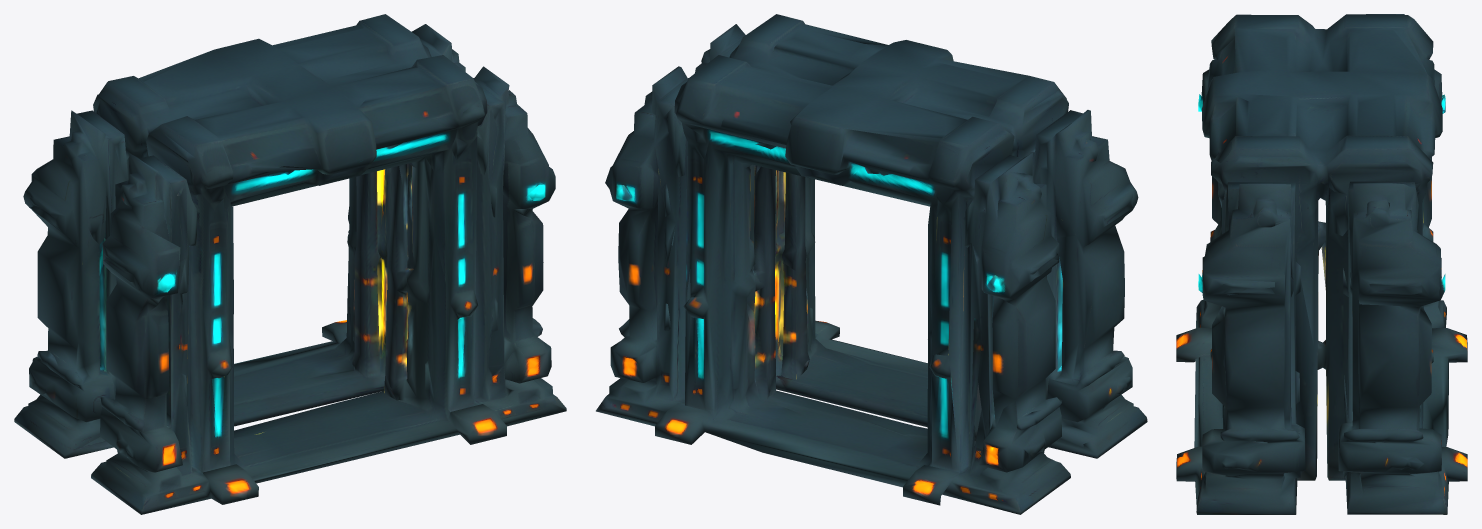
3 renders of one model, left to right at view 1: azimuth 30°, elevation 25°; view 2: azimuth 150°, elevation 25°; view 3: azimuth 270°, elevation 25°, orthographic.
Bounding box in the file's own units: 1.9 × 1.44 × 1.15.
1 material, 1 textured.
